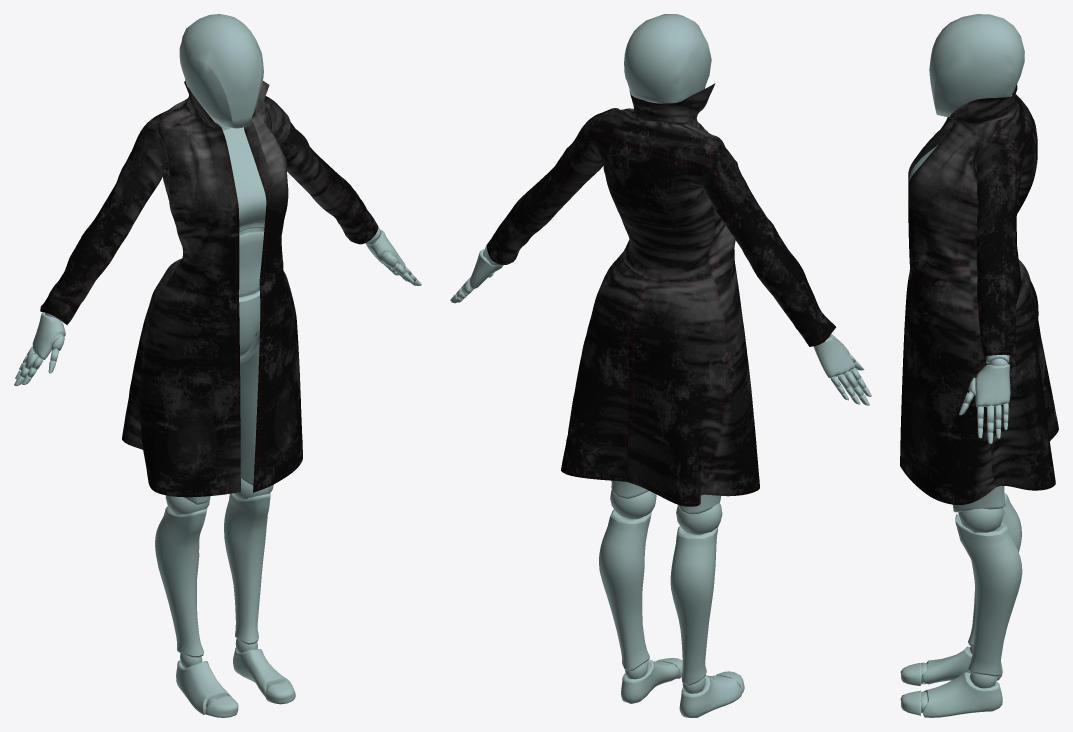
The model's file is leather_coat._codename_red_square.glb.
3 views of the same model, side by side, from view 1: azimuth 30°, elevation 25°; view 2: azimuth 150°, elevation 25°; view 3: azimuth 270°, elevation 25° (orthographic). The views are drawn at different scales.
Parts seen in each view (by area): view 1: Pattern2D_44690, Dummy.001; view 2: Pattern2D_44690, Dummy.001; view 3: Pattern2D_44690, Dummy.001.
Part boxes in pixels (x1,y1,x2,y2): Pattern2D_44690: (40, 81, 378, 497); Dummy.001: (14, 14, 421, 717); Pattern2D_44690: (487, 83, 835, 506); Dummy.001: (450, 14, 871, 717); Pattern2D_44690: (900, 85, 1058, 504); Dummy.001: (900, 14, 1024, 717).
Bounding box in the file's own units: 1.11 × 1.75 × 0.3712.
2 materials, 1 textured.
